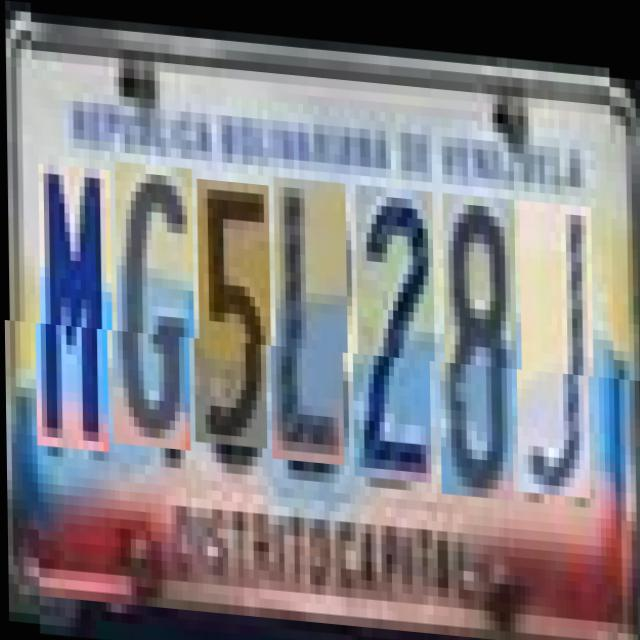2: (355, 177, 435, 475)
5: (196, 175, 272, 444)
8: (442, 184, 517, 490)
G: (114, 160, 194, 448)
J: (519, 190, 594, 487)
L: (273, 172, 348, 460)
M: (38, 162, 112, 450)
